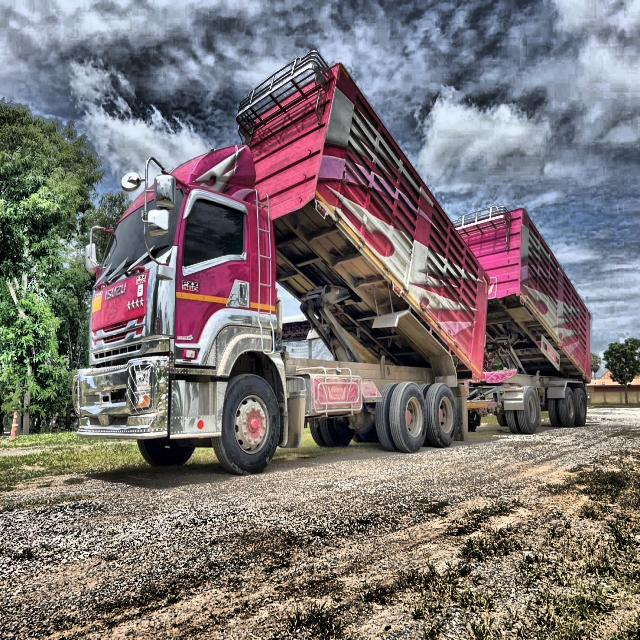trailer: (63, 43, 604, 469)
